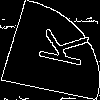K: (25, 24, 90, 69)
